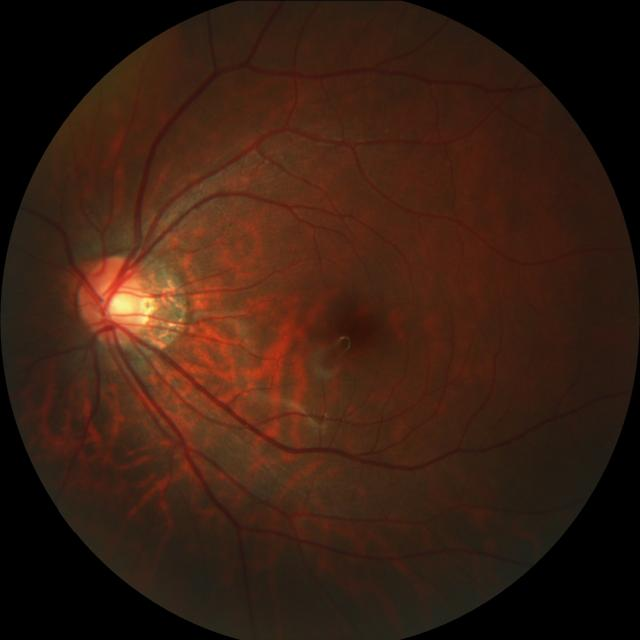OC: (103, 282, 143, 326)
OD: (78, 254, 154, 347)
